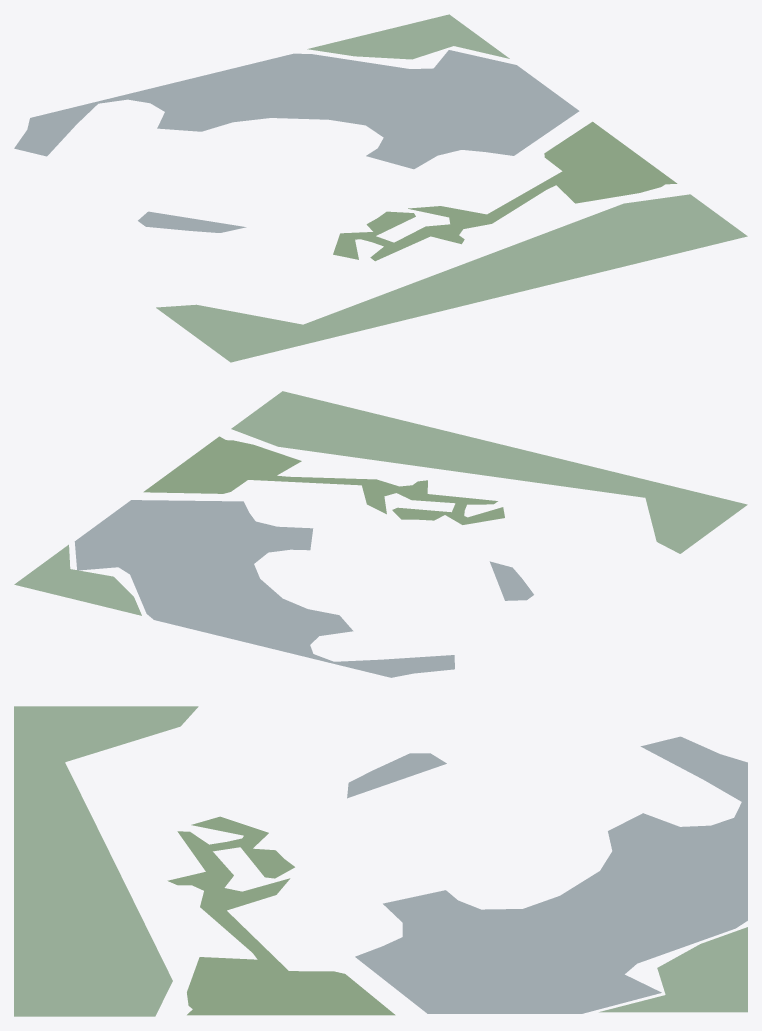
The model's file is 129_76_mid.glb.
3 views of the same model, one above another, from view 1: azimuth 30°, elevation 25°; view 2: azimuth 150°, elevation 25°; view 3: azimuth 270°, elevation 25° (orthographic). The views are drawn at different scales.
Bounding box in the file's own units: 500 × 3.93 × 500.
